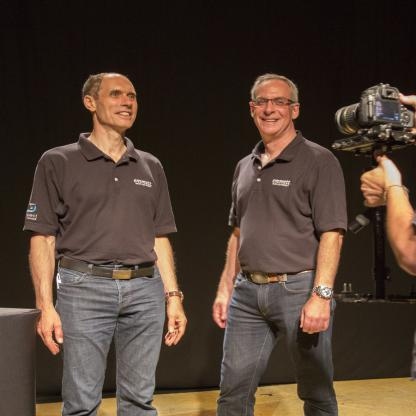Camera: (332, 87, 414, 176)
